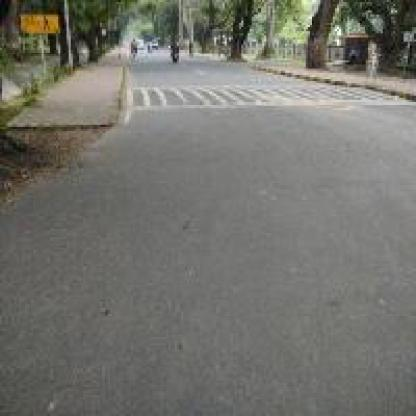Speed Bump: (131, 81, 414, 115)
